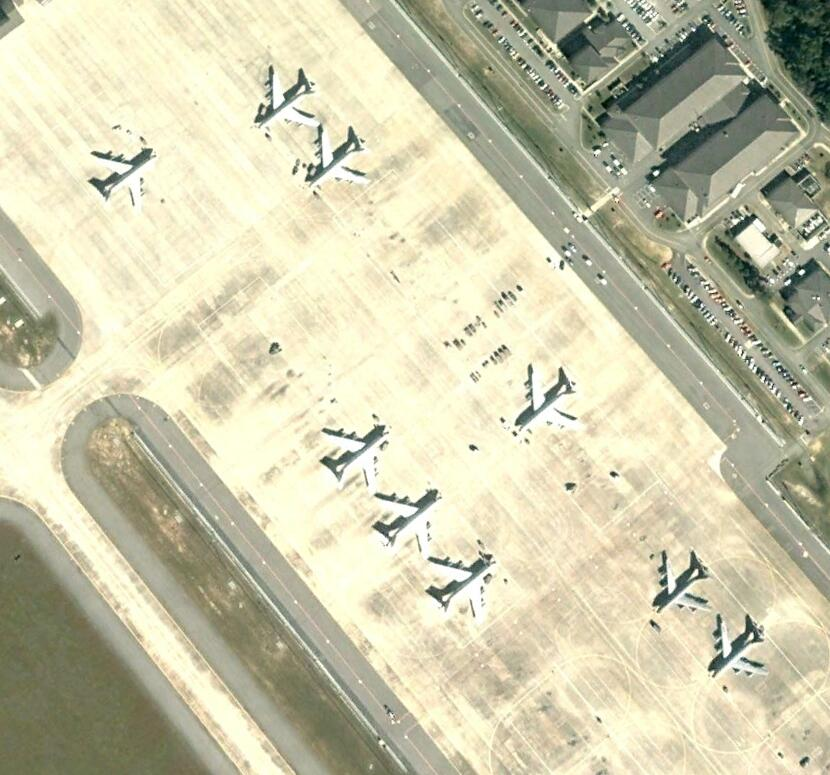A11: (371, 486, 444, 558), (514, 362, 585, 435), (427, 555, 499, 624), (319, 421, 392, 488), (91, 144, 158, 214), (705, 617, 774, 684), (305, 128, 374, 192), (254, 66, 323, 129), (655, 551, 720, 616)
